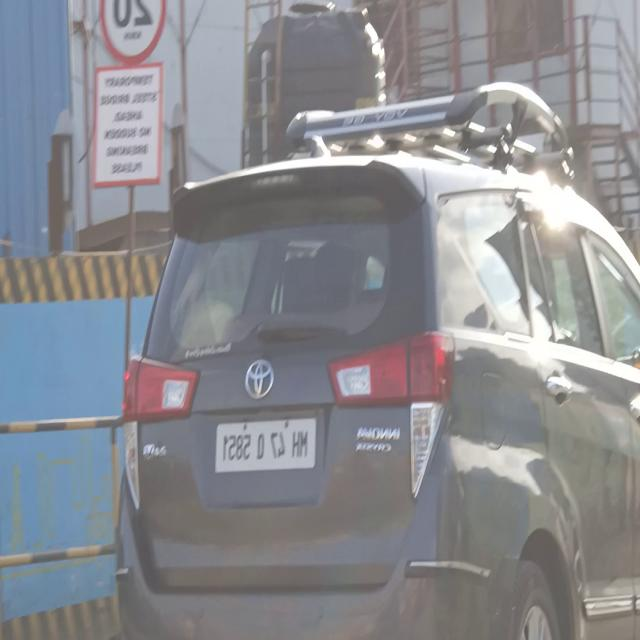license_plate: (210, 409, 320, 483)
